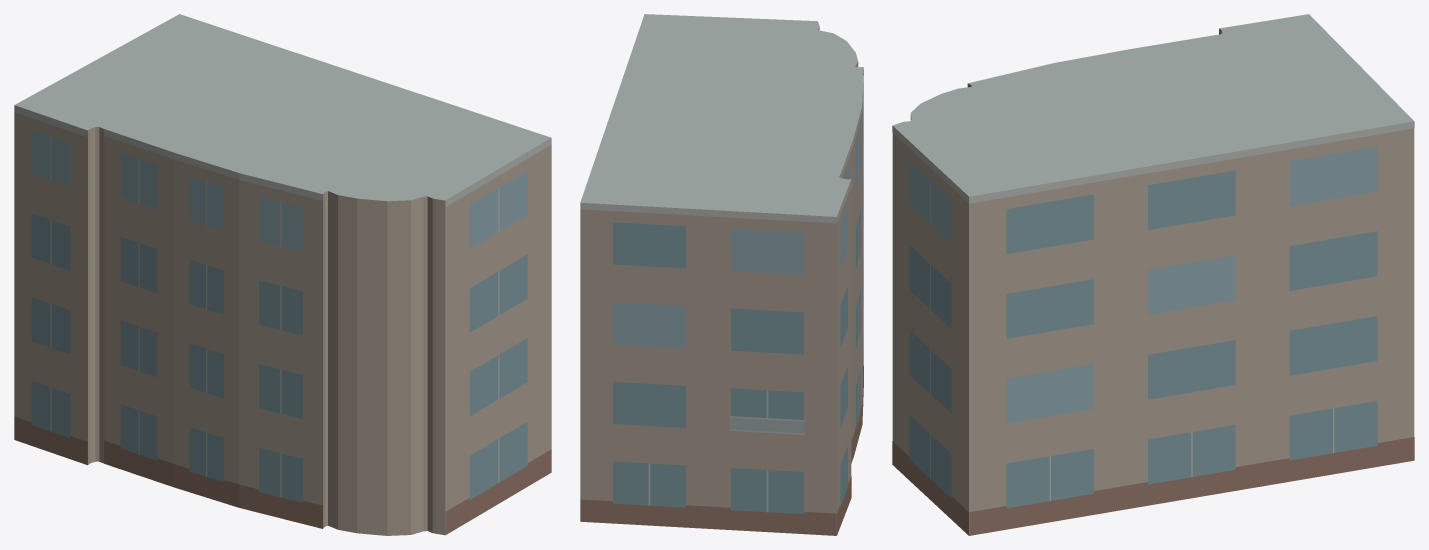
The model's file is survey-upis-32946470.glb.
3 renders of one model, left to right at view 1: azimuth 30°, elevation 25°; view 2: azimuth 150°, elevation 25°; view 3: azimuth 270°, elevation 25°, orthographic. The views are drawn at different scales.
Visible parts, largest first — view 1: survey-upis-32946470.tmp; view 2: survey-upis-32946470.tmp; view 3: survey-upis-32946470.tmp.
Part boxes in pixels (x1,y1,x2,y2): survey-upis-32946470.tmp: (14, 14, 551, 535); survey-upis-32946470.tmp: (580, 14, 863, 535); survey-upis-32946470.tmp: (892, 14, 1414, 535).
Bounding box in the file's own units: 13.87 × 12 × 16.75.
